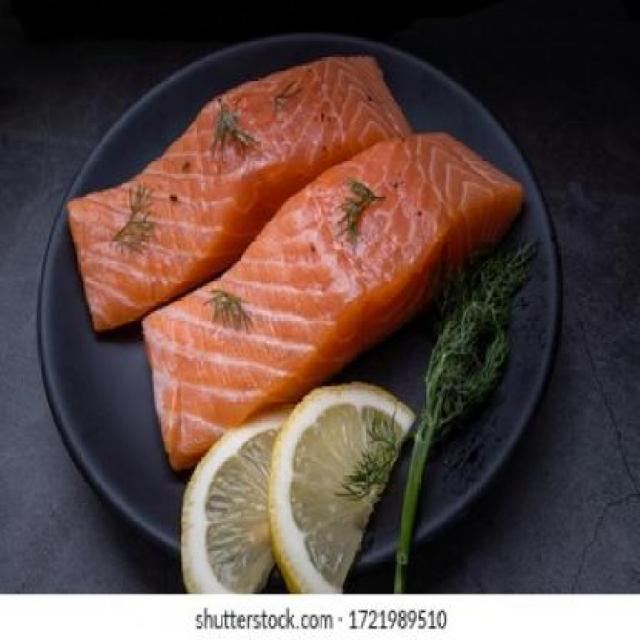salmon: (123, 131, 529, 474), (60, 60, 436, 335)
